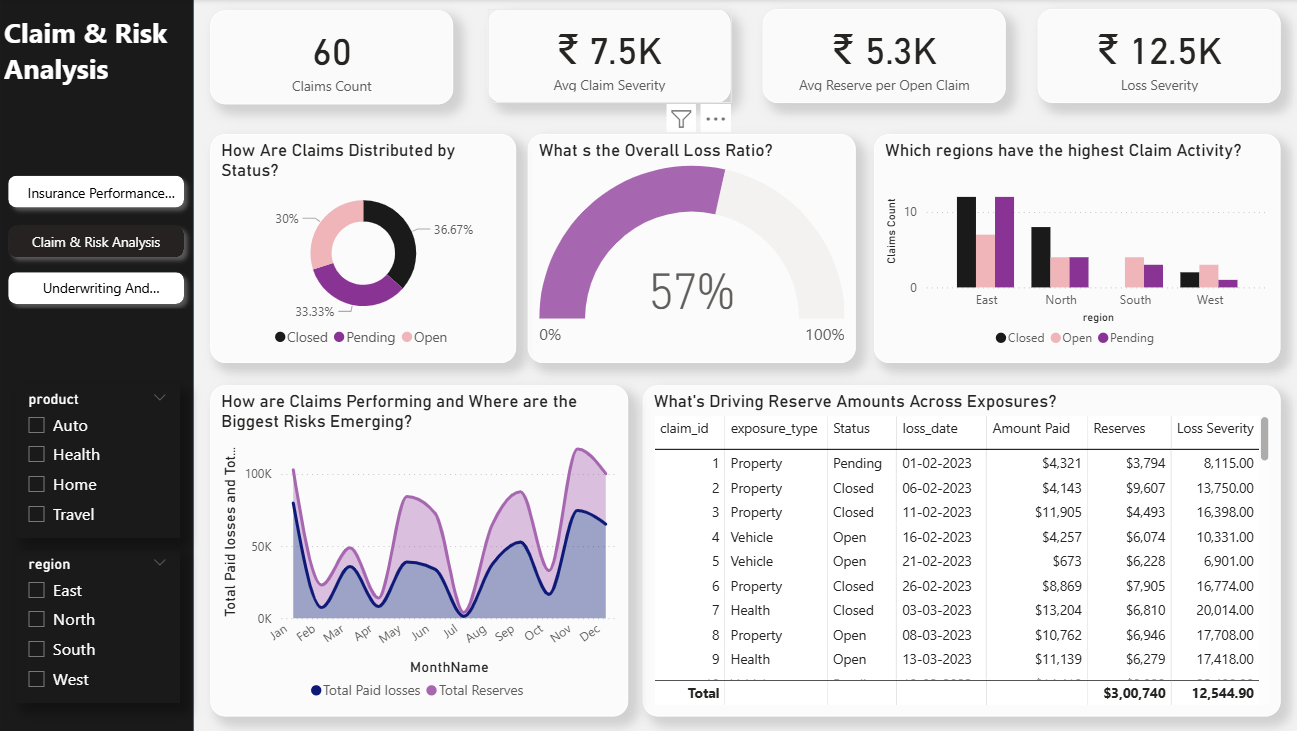

What the dashboard file says about the page in this screenshot:
{"tool":"powerbi","page":{"name":"Claim & Risk Analysis","canvas":[1280,720],"ordinal":1},"visuals":[{"type":"shape","box":[9.6,0,190.7,720.4],"z":0},{"type":"card","fields":{"Values":["Measures_.Claims Count"]},"box":[216.8,11,237.4,91.9],"z":1000},{"type":"donutChart","title":"How Are Claims Distributed by Status?","fields":{"Y":["Measures_.Claims Count"],"Category":["insurance claim.claim_status"]},"box":[216.8,131.7,299.1,223.7],"z":2000},{"type":"tableEx","title":"What''s Driving Reserve Amounts Across Exposures?","fields":{"Values":["insurance claim.claim_id","insurance exposure.exposure_type","insurance claim.claim_status","insurance claim.loss_date","insurance claim.paid_amount","Sum(insurance claim.reserves)","Measures_.Loss Severity"]},"box":[639.5,377.4,624.4,323.8],"z":3000},{"type":"card","fields":{"Values":["Measures_.Avg Claim Severity"]},"box":[488.5,9.6,237.4,91.9],"z":4000},{"type":"card","fields":{"Values":["Measures_.Avg Reserve per Open Claim"]},"box":[757.5,9.6,237.4,91.9],"z":5000},{"type":"card","fields":{"Values":["Measures_.Loss Severity"]},"box":[1026.4,9.6,237.4,91.9],"z":6000},{"type":"gauge","title":"What s the Overall Loss Ratio?","fields":{"Y":["Measures_.Loss Ratio %"]},"box":[526.9,131.7,321.1,223.7],"z":7000},{"type":"clusteredColumnChart","title":"Which regions have the highest Claim Activity?","fields":{"Category":["insurance account.region"],"Y":["Measures_.Claims Count"],"Series":["insurance claim.claim_status"]},"box":[865.9,131.7,397.9,223.7],"z":8000},{"type":"textbox","box":[9.6,9.6,207.2,93.3],"z":9000},{"type":"pageNavigator","box":[9.6,163.3,190.7,140],"z":10000},{"type":"stackedAreaChart","title":"How are Claims Performing and Where are the Biggest Risks Emerging?","fields":{"Category":["Date.MonthName"],"Y":["Measures_.Total Paid losses","Measures_.Total Reserves"]},"box":[216.8,377.4,408.9,323.8],"z":11000},{"type":"slicer","fields":{"Values":["insurance policy.product"]},"box":[26.1,377.4,160.5,149.6],"z":12000},{"type":"slicer","fields":{"Values":["insurance account.region"]},"box":[26.1,539.3,160.5,149.6],"z":13000}]}

Visuals, with their boxes on the page's 1280x720 design canvas (x1, y1, x2, y2). These are canvas units, not pixel positions in the 1297x731 screenshot, which may show the page scaled, cropped or inside an application window:
shape: rect(10, 0, 200, 720)
card - Measures_.Claims Count: rect(217, 11, 454, 103)
"How Are Claims Distributed by Status?" donutChart: rect(217, 132, 516, 355)
"What''s Driving Reserve Amounts Across Exposures?" tableEx: rect(640, 377, 1264, 701)
card - Measures_.Avg Claim Severity: rect(488, 10, 726, 102)
card - Measures_.Avg Reserve per Open Claim: rect(758, 10, 995, 102)
card - Measures_.Loss Severity: rect(1026, 10, 1264, 102)
"What s the Overall Loss Ratio?" gauge: rect(527, 132, 848, 355)
"Which regions have the highest Claim Activity?" clusteredColumnChart: rect(866, 132, 1264, 355)
textbox: rect(10, 10, 217, 103)
pageNavigator: rect(10, 163, 200, 303)
"How are Claims Performing and Where are the Biggest Risks Emerging?" stackedAreaChart: rect(217, 377, 626, 701)
slicer - insurance policy.product: rect(26, 377, 187, 527)
slicer - insurance account.region: rect(26, 539, 187, 689)
